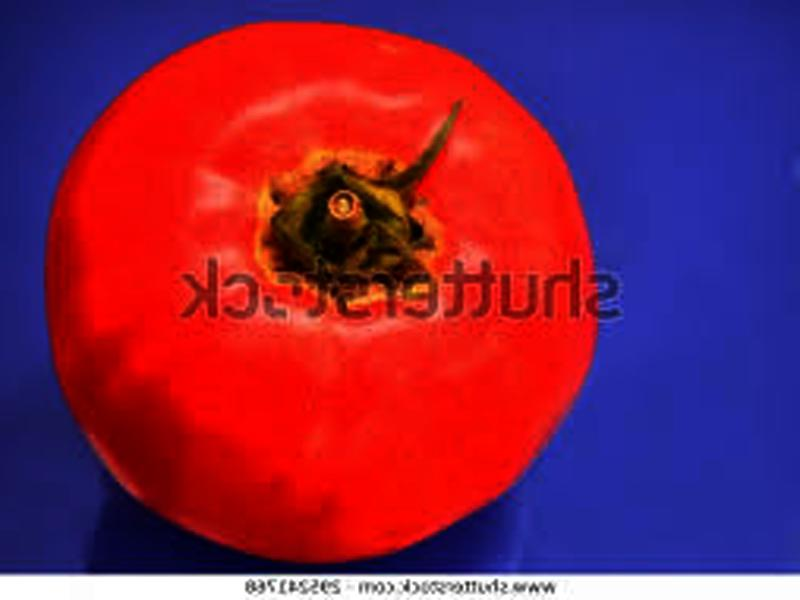Tomato: (43, 21, 597, 552)
